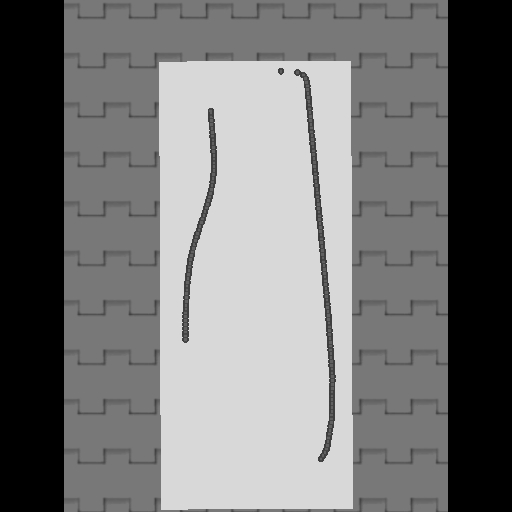Defect: (177, 337, 320, 486)
